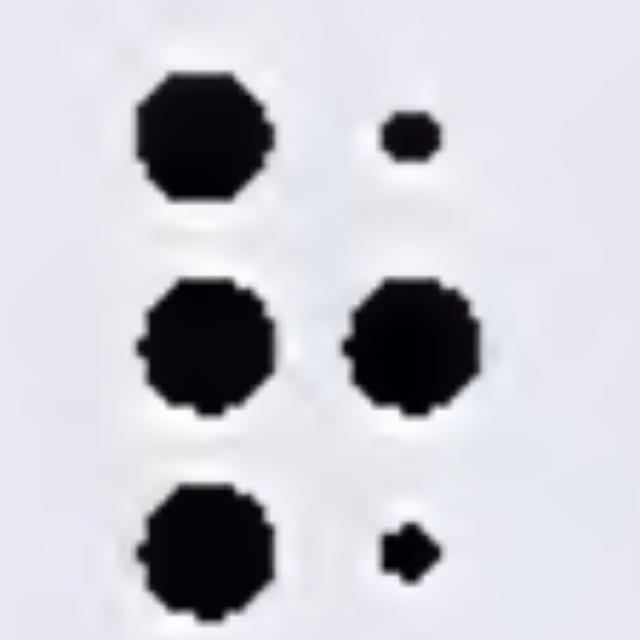letter_r: (137, 73, 482, 624)
